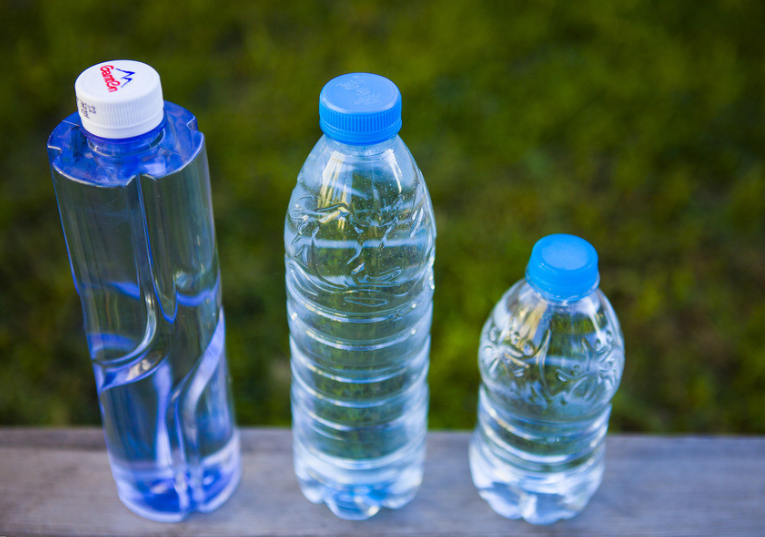其他: (278, 67, 444, 520), (468, 229, 634, 523)
百岁山: (41, 51, 248, 521)
